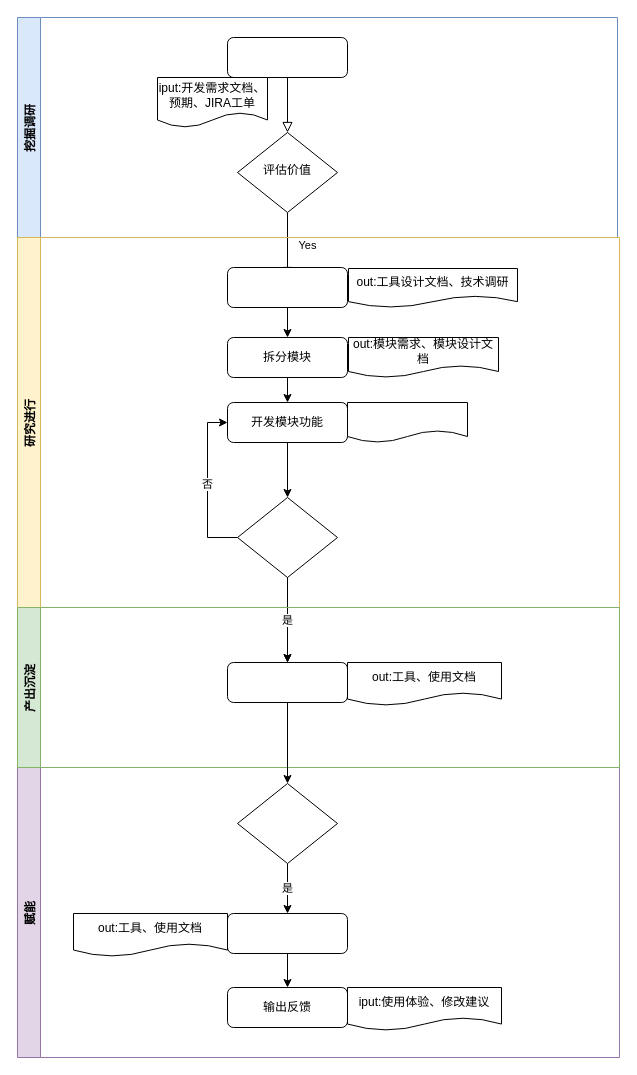
Image size: 637x1075. Some labels were removed from this diagram. Here are the shapes that lost their labels. From the top down, the centre of each, then its label:
At pixel 287 57: "确定安全开发需求".
At pixel 287 287: "进行工具设计".
At pixel 407 422: "out:测试记录".
At pixel 287 537: "测试".
At pixel 287 682: "成果输出".
At pixel 287 823: "赋能支持".
At pixel 287 933: "赋能产品、区域红队、其他团队".
